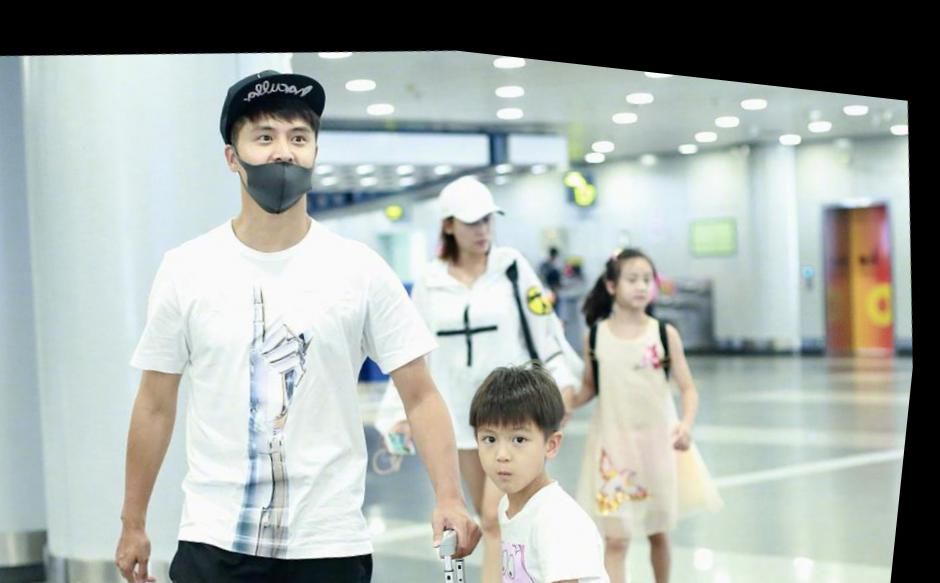NONE: (482, 410, 553, 479), (619, 250, 668, 300), (462, 198, 504, 243)
WRONG: (224, 106, 333, 215)
